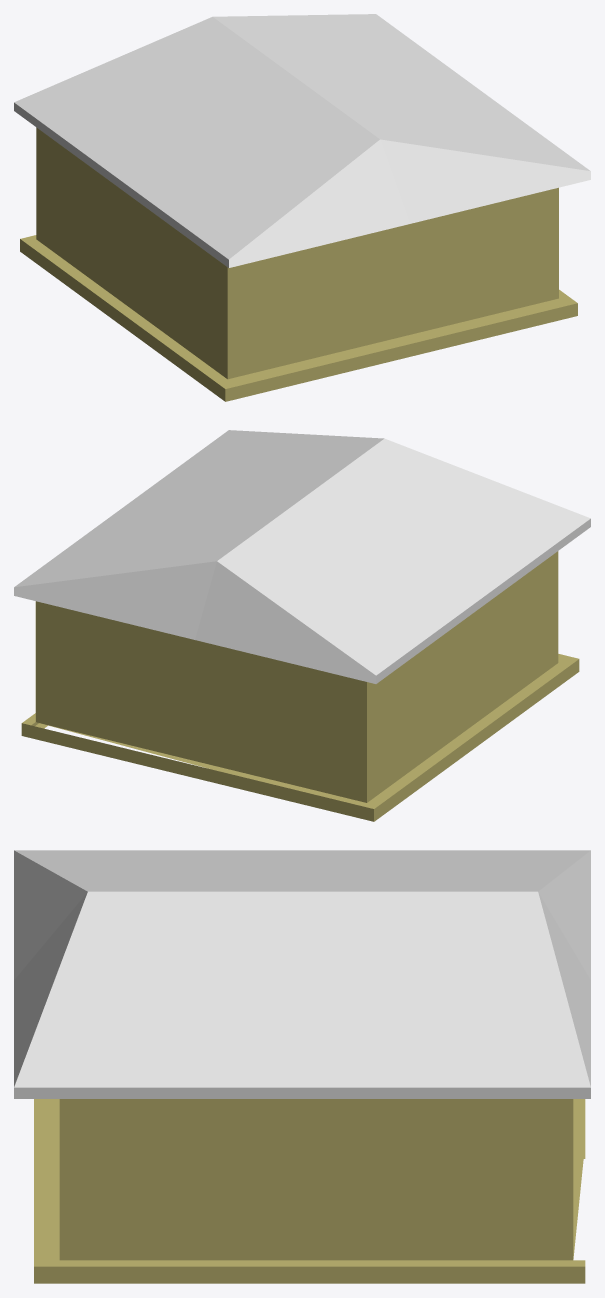
Rendered from rucheHaut.fbx.
3 renders of one model, top to bottom at view 1: azimuth 30°, elevation 25°; view 2: azimuth 150°, elevation 25°; view 3: azimuth 270°, elevation 25°, orthographic. The views are drawn at different scales.
Parts seen in each view (by area): view 1: Cube.001, Cube.002; view 2: Cube.001, Cube.002; view 3: Cube.001, Cube.002.
Part boxes in pixels (<box>): Cube.001: <box>14,14,590,267</box>; Cube.002: <box>20,127,577,401</box>; Cube.001: <box>14,430,590,683</box>; Cube.002: <box>21,551,579,821</box>; Cube.001: <box>14,850,590,1098</box>; Cube.002: <box>34,1099,585,1283</box>.
Bounding box in the file's own units: 219 × 118 × 225.
